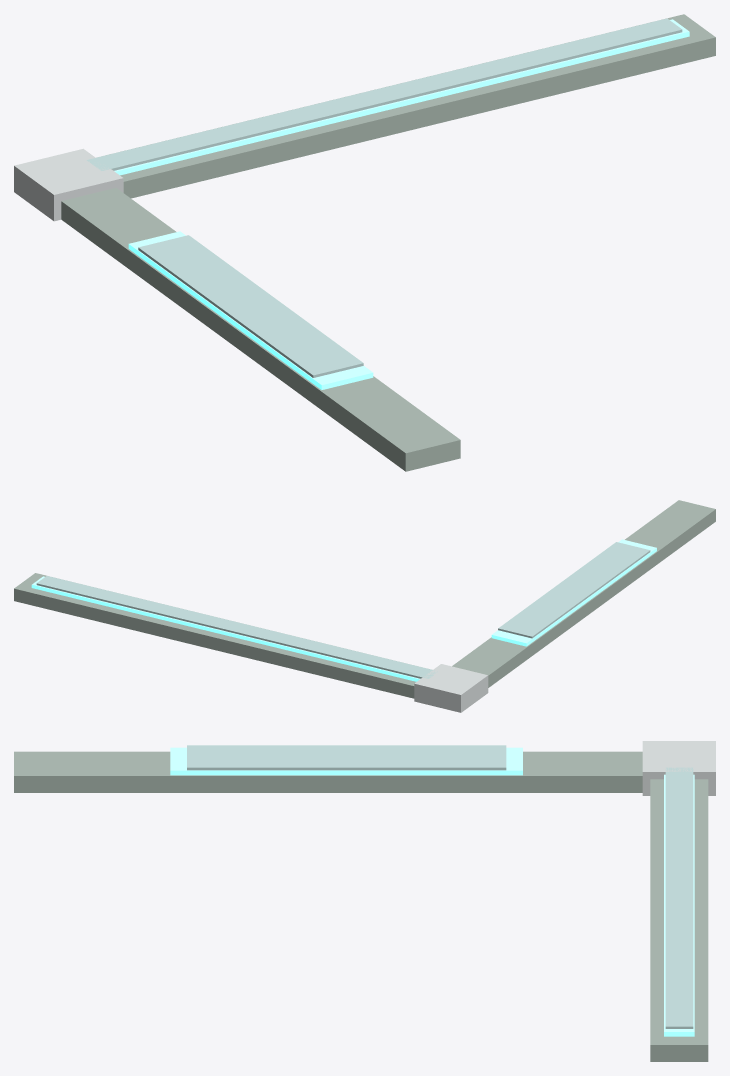
Rendered from s7-lf1-perimeter-corner.glb.
3 renders of one model, top to bottom at view 1: azimuth 30°, elevation 25°; view 2: azimuth 150°, elevation 25°; view 3: azimuth 270°, elevation 25°, orthographic. The views are drawn at different scales.
Visible parts, largest first — view 1: 000_L_corner_housing_0, 003_L_corner_housing_1, 002_corner_diffuser_0, 005_corner_diffuser_1, 006_joint_cap, 001_waterproof_corner_emitter_0, 004_waterproof_corner_emitter_1; view 2: 000_L_corner_housing_0, 003_L_corner_housing_1, 002_corner_diffuser_0, 005_corner_diffuser_1, 006_joint_cap, 001_waterproof_corner_emitter_0, 004_waterproof_corner_emitter_1; view 3: 003_L_corner_housing_1, 000_L_corner_housing_0, 005_corner_diffuser_1, 002_corner_diffuser_0, 006_joint_cap, 004_waterproof_corner_emitter_1, 001_waterproof_corner_emitter_0.
Part boxes in pixels (bbox=[...]): 000_L_corner_housing_0: bbox=[106, 14, 715, 198]; 003_L_corner_housing_1: bbox=[61, 188, 460, 471]; 002_corner_diffuser_0: bbox=[86, 18, 682, 170]; 005_corner_diffuser_1: bbox=[138, 235, 363, 377]; 006_joint_cap: bbox=[14, 148, 123, 221]; 001_waterproof_corner_emitter_0: bbox=[114, 19, 689, 175]; 004_waterproof_corner_emitter_1: bbox=[128, 231, 373, 389]; 000_L_corner_housing_0: bbox=[14, 573, 415, 698]; 003_L_corner_housing_1: bbox=[452, 500, 715, 687]; 002_corner_diffuser_0: bbox=[36, 576, 437, 678]; 005_corner_diffuser_1: bbox=[498, 542, 650, 638]; 006_joint_cap: bbox=[414, 664, 488, 712]; 001_waterproof_corner_emitter_0: bbox=[31, 576, 420, 681]; 004_waterproof_corner_emitter_1: bbox=[491, 539, 656, 646]; 003_L_corner_housing_1: bbox=[14, 751, 642, 792]; 000_L_corner_housing_0: bbox=[650, 779, 708, 1061]; 005_corner_diffuser_1: bbox=[187, 745, 506, 770]; 002_corner_diffuser_0: bbox=[665, 767, 693, 1028]; 006_joint_cap: bbox=[642, 741, 715, 795]; 004_waterproof_corner_emitter_1: bbox=[170, 747, 522, 775]; 001_waterproof_corner_emitter_0: bbox=[664, 774, 694, 1036].
Size of the model in its own units: 1.05 by 0.04 by 1.05.
